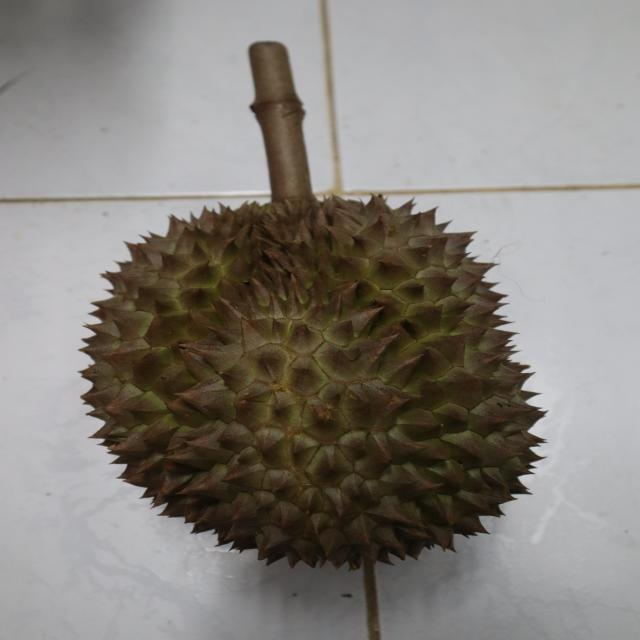mature: (79, 190, 551, 573)
